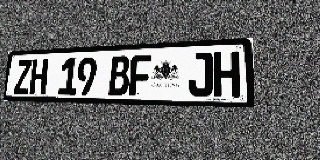1: (58, 58, 78, 95)
9: (76, 57, 97, 95)
B: (108, 56, 130, 96)
F: (129, 55, 152, 96)
H: (214, 51, 240, 97), (29, 59, 48, 95)
J: (188, 52, 213, 97)
Z: (14, 60, 32, 94)
